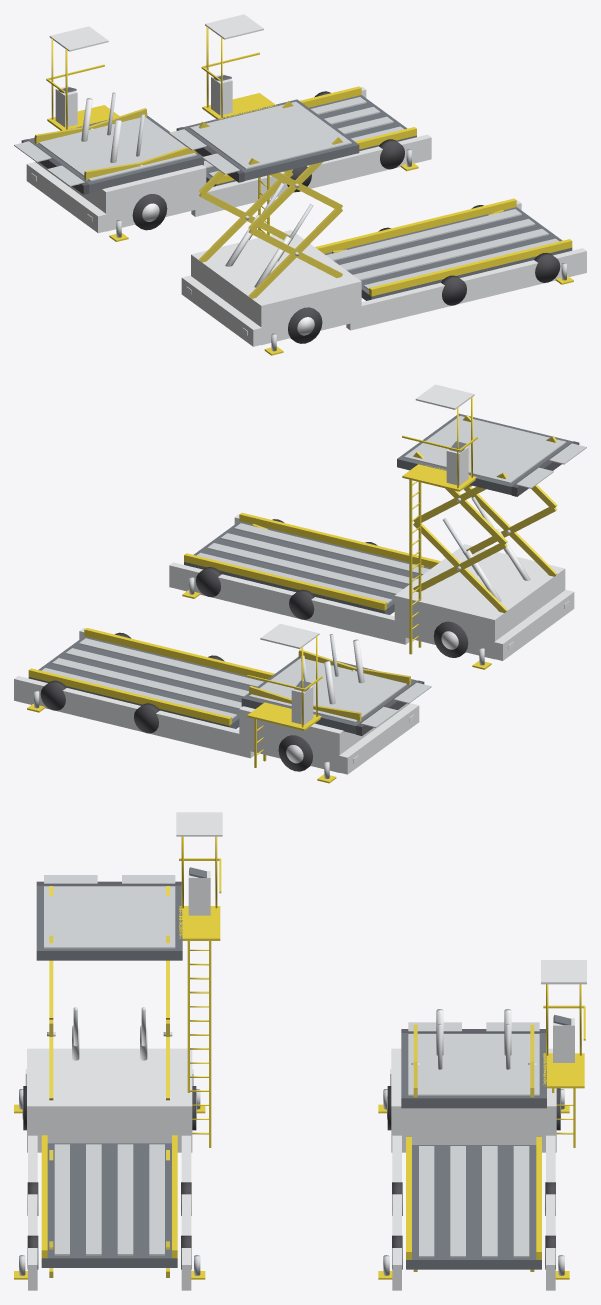
File: CargoHigh-Loader.fbx
3 renders of one model, top to bottom at view 1: azimuth 30°, elevation 25°; view 2: azimuth 150°, elevation 25°; view 3: azimuth 270°, elevation 25°, orthographic. The views are drawn at different scales.
Parts seen in each view (by area): view 1: GSE_Commander30_Raised, GSE_Commander30_Lowered; view 2: GSE_Commander30_Raised, GSE_Commander30_Lowered; view 3: GSE_Commander30_Raised, GSE_Commander30_Lowered.
Boxes of the visible parts, x1,y1,x2,y2 form: GSE_Commander30_Raised: (169,14,586,355); GSE_Commander30_Lowered: (14,26,431,241); GSE_Commander30_Raised: (169,384,586,669); GSE_Commander30_Lowered: (14,623,431,783); GSE_Commander30_Raised: (14,812,222,1290); GSE_Commander30_Lowered: (378,960,586,1290).
Bounding box in the file's own units: 991 × 700 × 1180.
